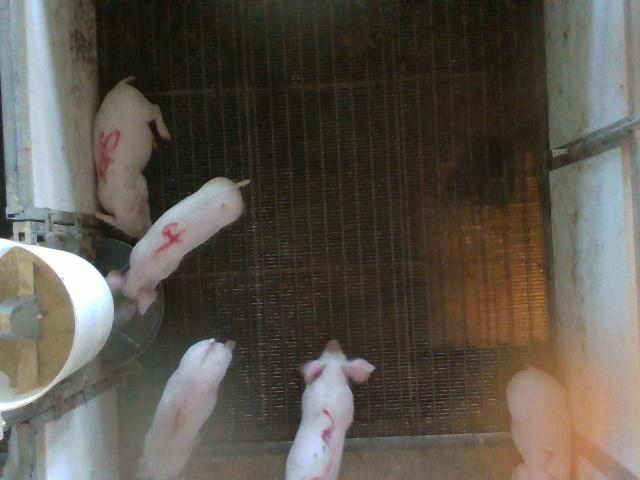pig-1: (136, 339, 232, 479)
pig-2: (506, 366, 571, 478)
pig-3: (285, 339, 375, 479)
pig-4: (106, 178, 248, 313)
pig-5: (94, 76, 171, 238)
